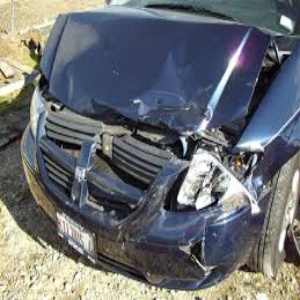bumper: (49, 12, 259, 131), (151, 219, 235, 289)
